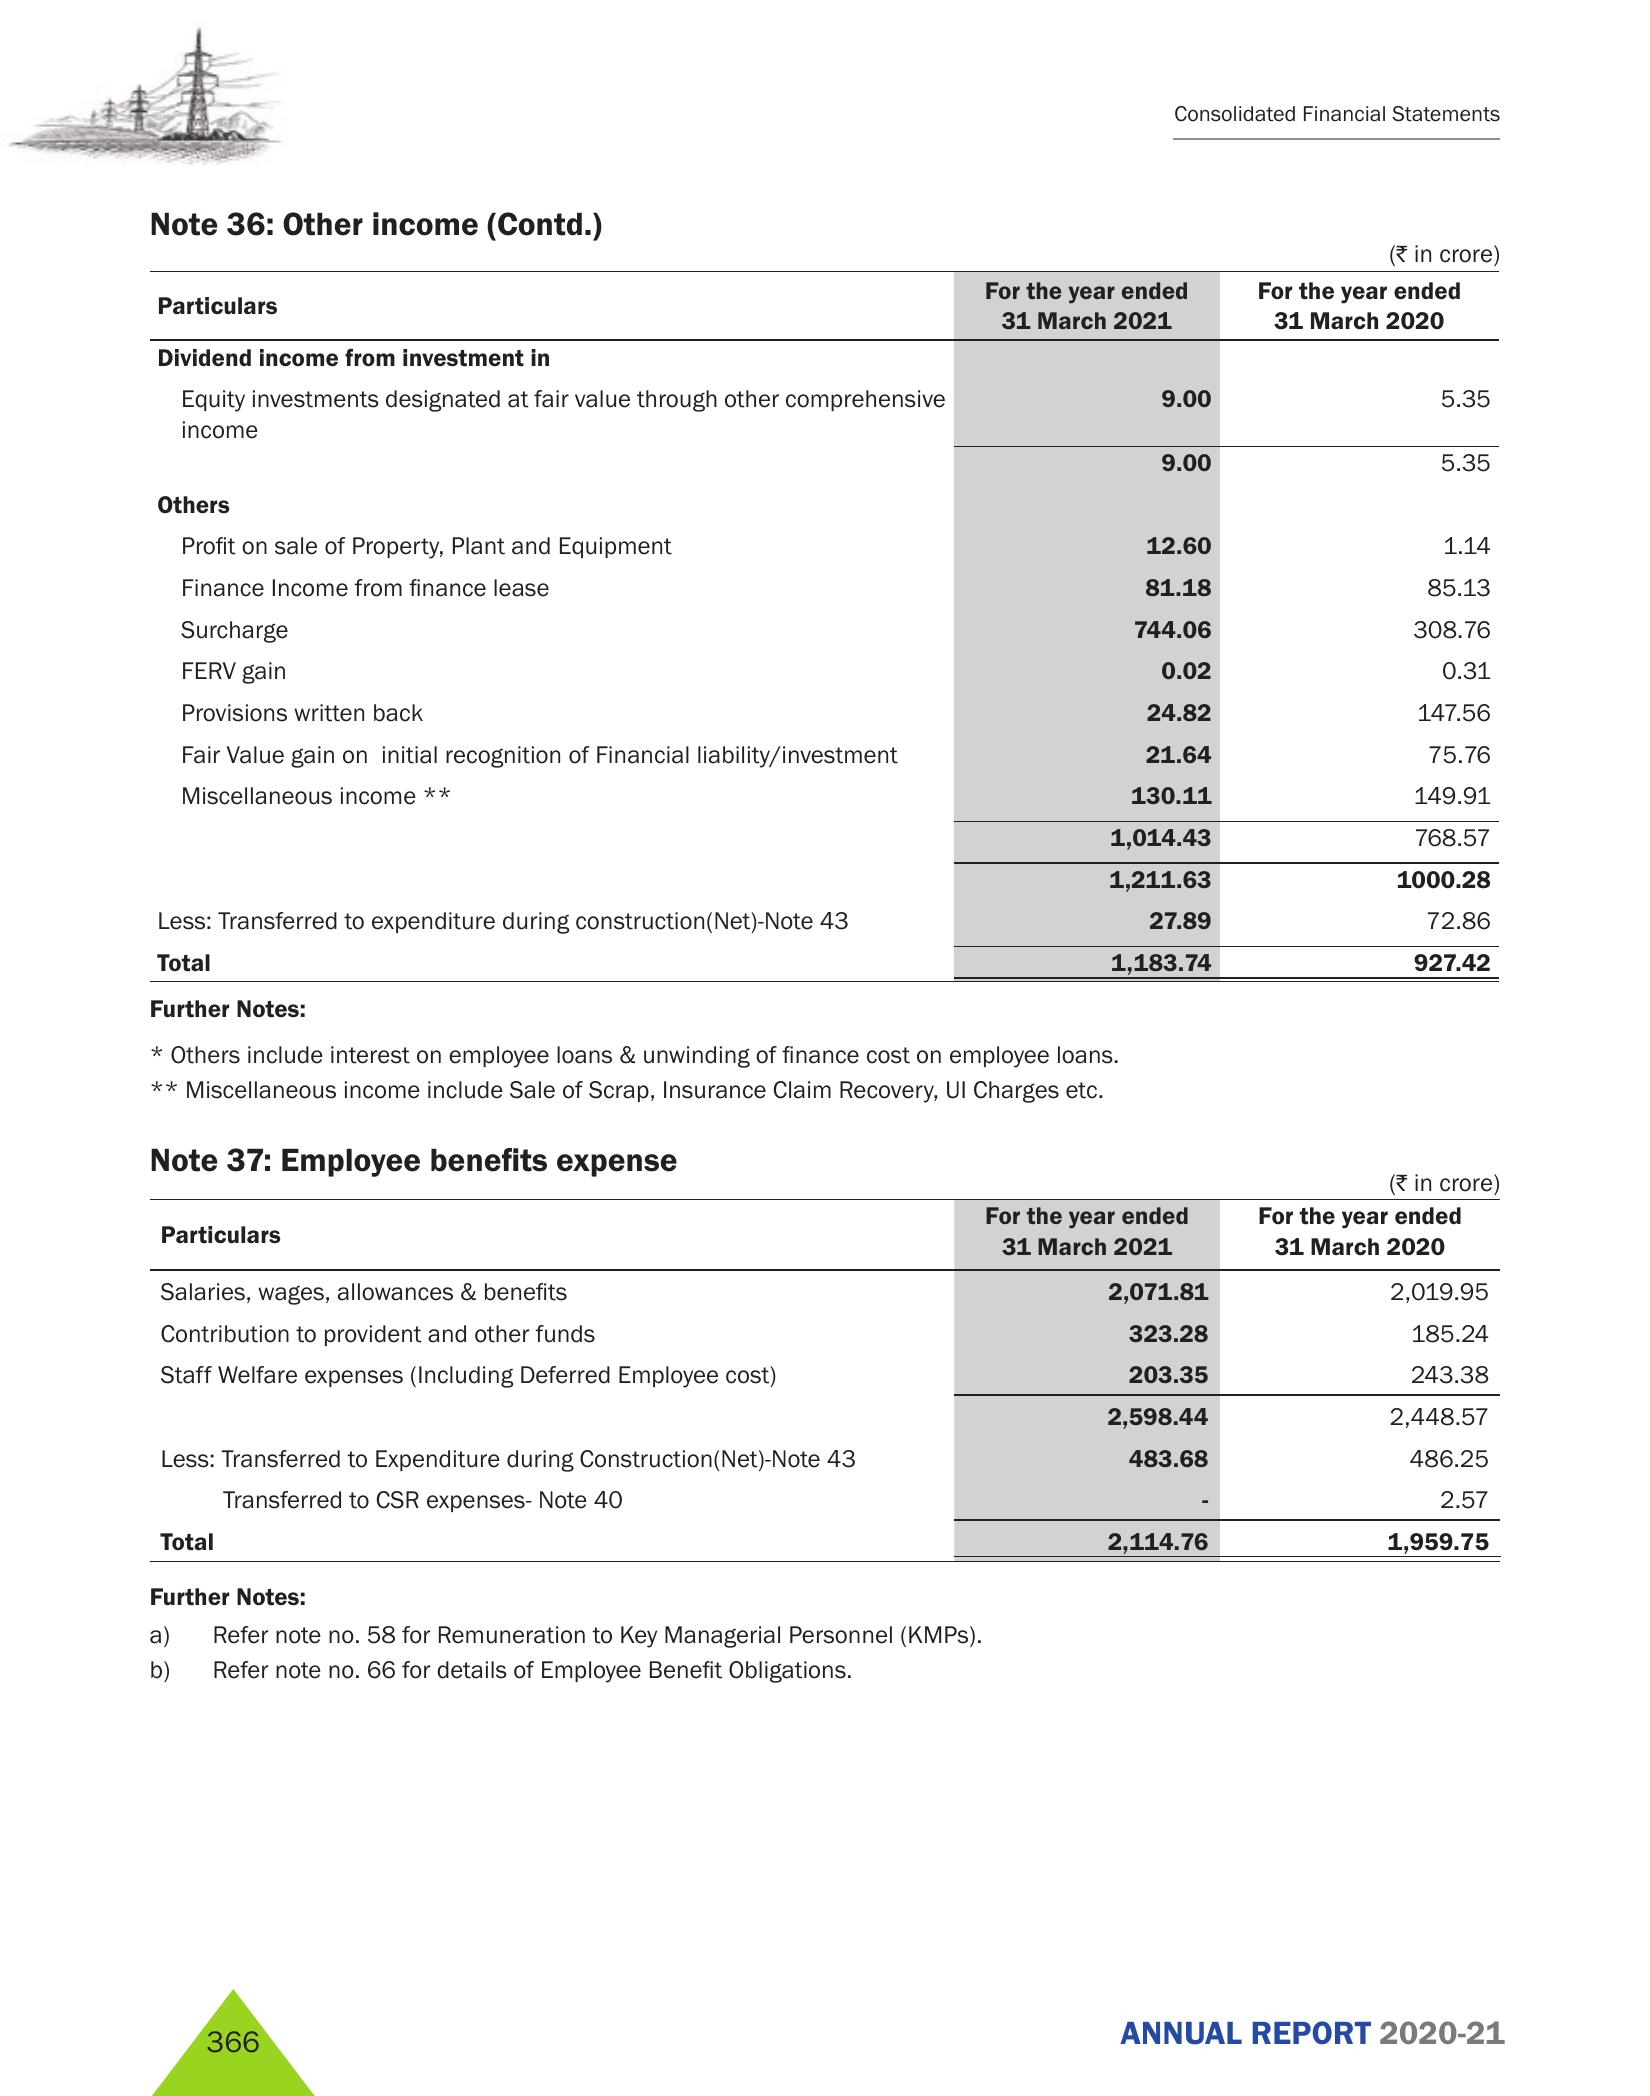Footer: (0, 1962, 1650, 2096)
Header: (0, 0, 1650, 184)
Table: (82, 274, 1565, 982), (94, 1193, 1495, 1581)
